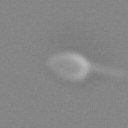normal: (91, 52, 128, 87)
